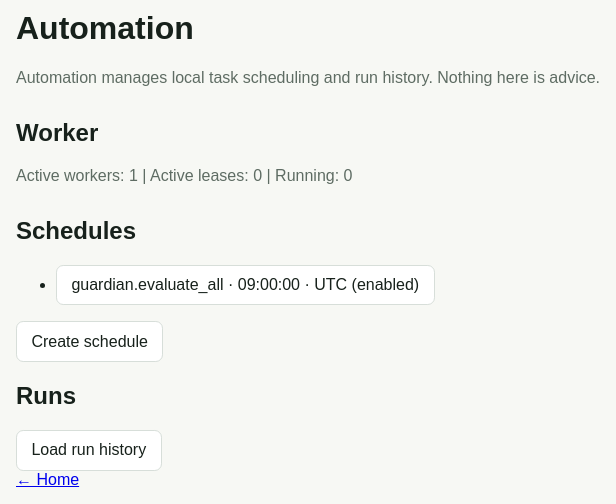
Test case: AutomationClient — UI states › disable: explicit action
The image size is (616, 504).
Click the button "guardian.evaluate_all · 09:00:00 · UTC (enabled)".
click(245, 285)  # box [56,265,435,306]
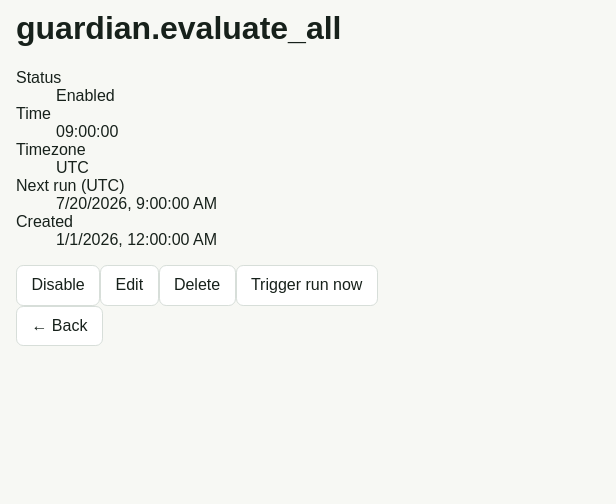
Expected: the button with aria-label "Disable schedule" is shown, [16,265,100,306]
